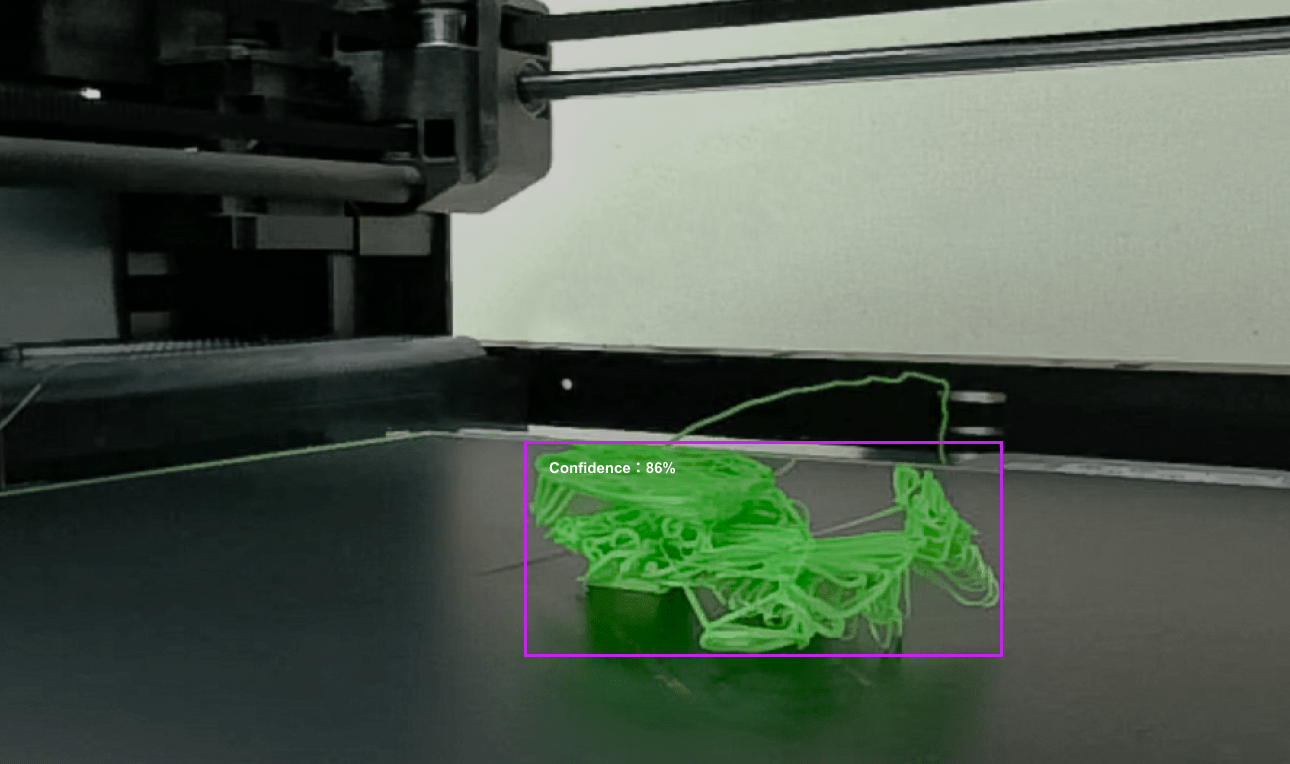Spaghetti: (422, 331, 1063, 708)
